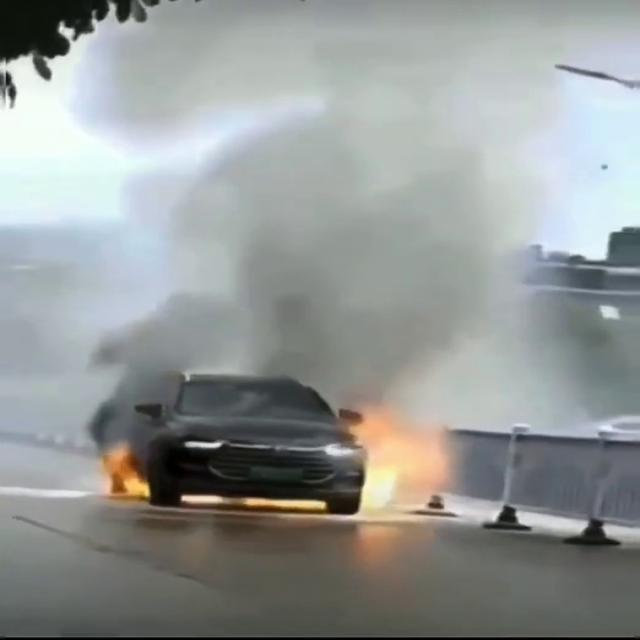Fire: (343, 411, 451, 524), (90, 439, 156, 504)
Smoke: (68, 0, 626, 411)
